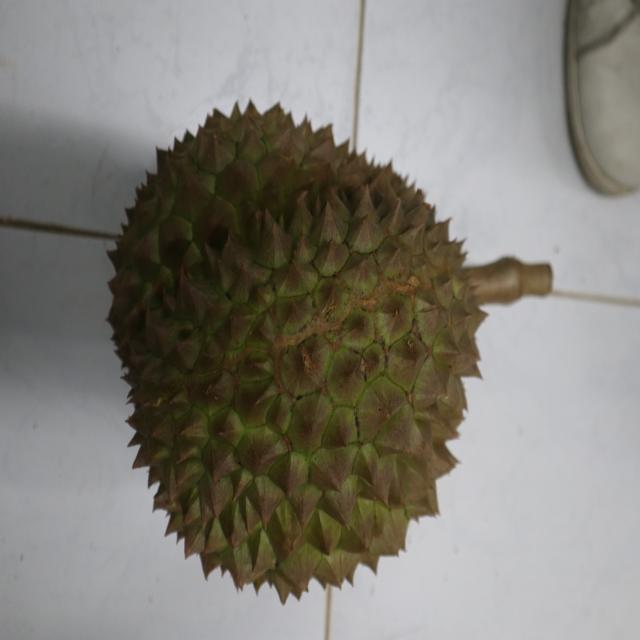mature: (105, 96, 490, 603)
